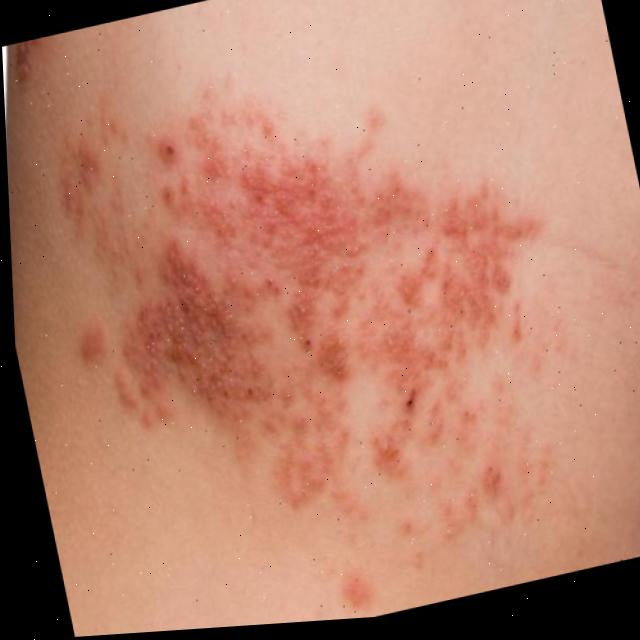Shingles: (55, 67, 586, 521)
